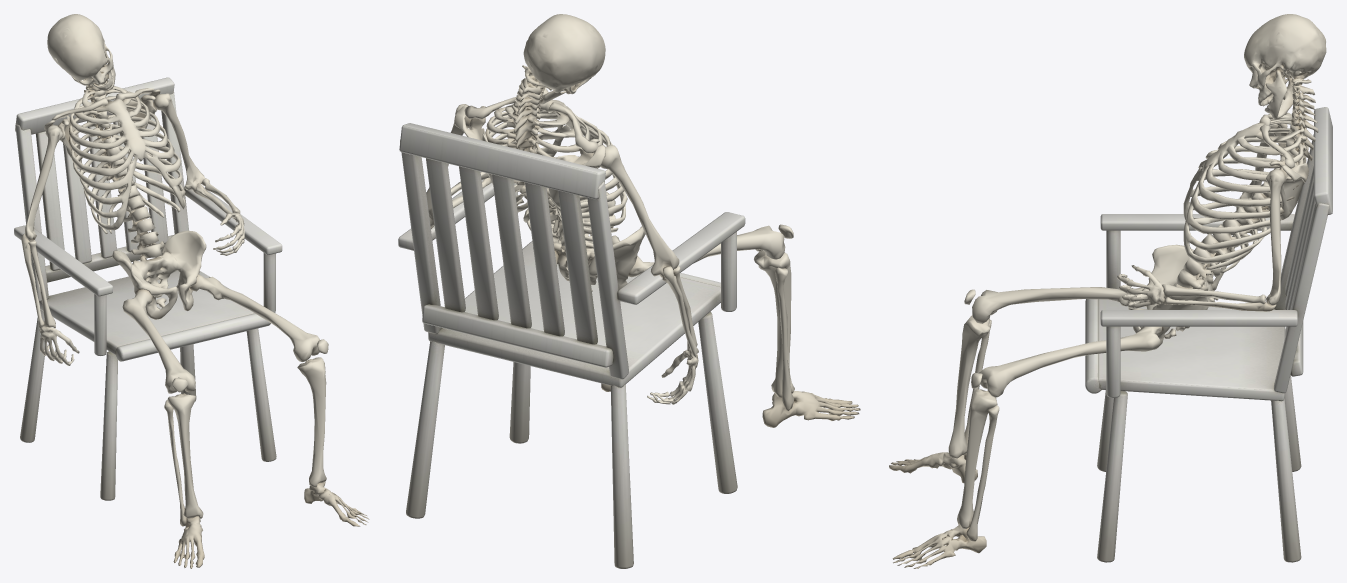
File: skeleton.glb
3 views of the same model, side by side, from view 1: azimuth 30°, elevation 25°; view 2: azimuth 150°, elevation 25°; view 3: azimuth 270°, elevation 25° (orthographic). The views are drawn at different scales.
Visible parts, largest first — view 1: SkeletonBody, ResinChair, SkeletonHead; view 2: ResinChair, SkeletonBody, SkeletonHead; view 3: SkeletonBody, ResinChair, SkeletonHead, SkeletonJaw.
Boxes of the visible parts, box(x1,y1,x2,y2) form: SkeletonBody: box(21, 79, 369, 568); ResinChair: box(14, 77, 282, 500); SkeletonHead: box(47, 14, 113, 90); ResinChair: box(398, 123, 745, 568); SkeletonBody: box(426, 65, 860, 427); SkeletonHead: box(523, 14, 605, 94); SkeletonBody: box(889, 78, 1318, 568); ResinChair: box(1085, 107, 1332, 562); SkeletonHead: box(1244, 14, 1326, 106); SkeletonJaw: box(1264, 69, 1295, 119).
Bounding box in the file's own units: 0.6271 × 1.24 × 1.04.
2 materials, 1 textured.
